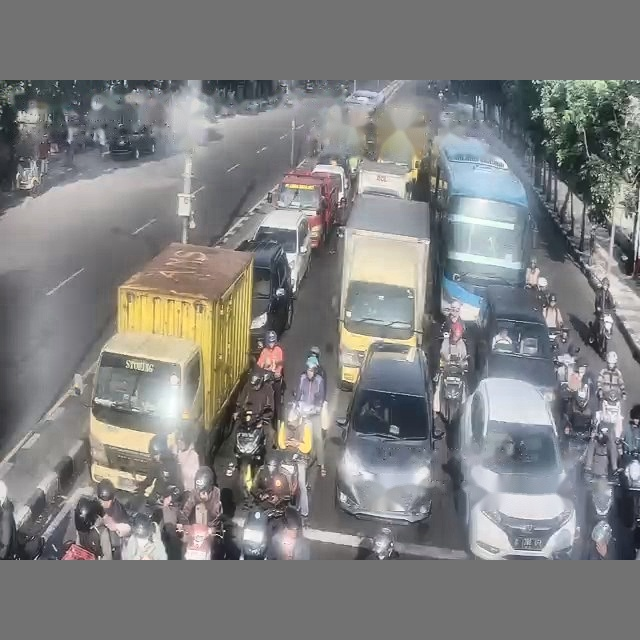Bis: (434, 136, 535, 320)
Mobil: (455, 378, 576, 559), (335, 342, 443, 524), (474, 285, 558, 406), (236, 239, 293, 353), (253, 210, 310, 296), (312, 163, 350, 208), (109, 126, 155, 159), (316, 148, 356, 179), (241, 100, 259, 114), (258, 98, 271, 111)
Motor: (234, 407, 272, 499), (176, 504, 223, 559), (440, 355, 467, 423), (620, 440, 639, 530), (240, 508, 270, 559), (589, 312, 613, 357)
Truk: (89, 243, 253, 491), (338, 194, 431, 390), (267, 169, 341, 248), (358, 159, 409, 198)
